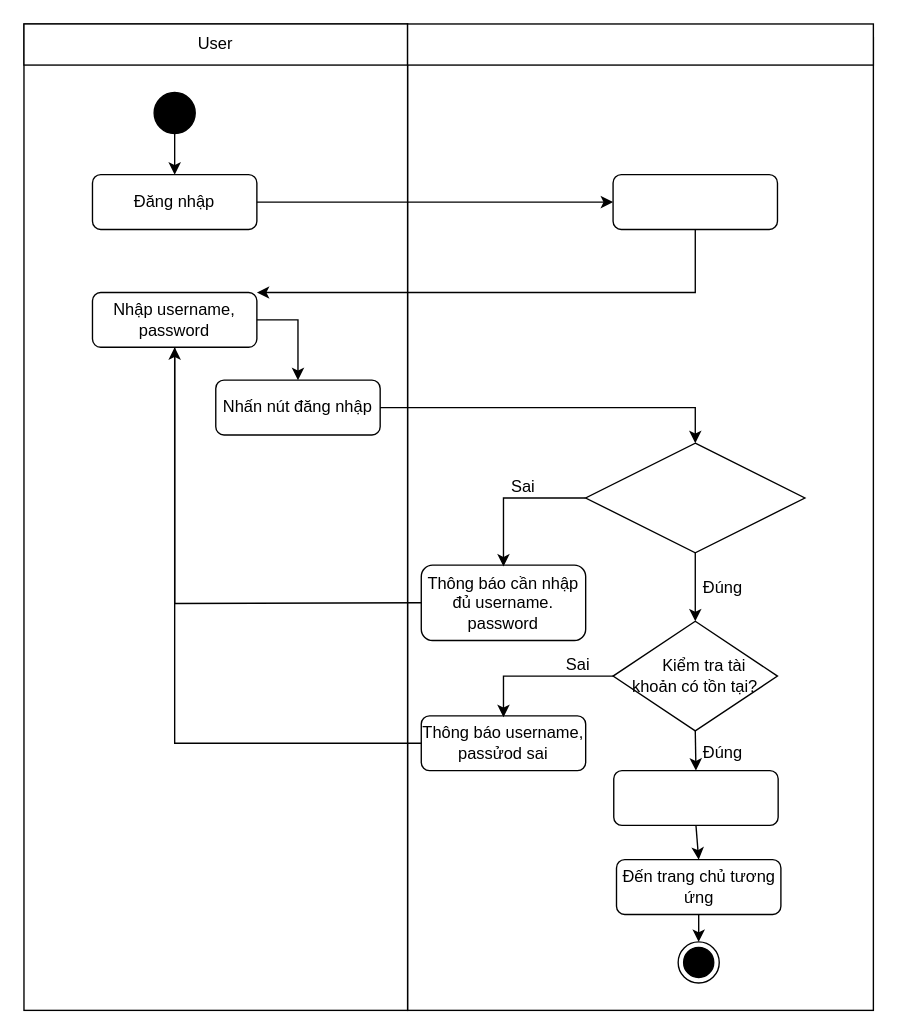
The diagram is 897 pixels wide and 1034 high, and some of its shapes have lost their labels. Each missing label, with the centre of its shape:
"Hiển thị form login" goes at (694,201).
"Lưu thông tin đăng nhập" goes at (695,797).
"System" goes at (639,44).
"Username, password đã được nhập?" goes at (694,497).
